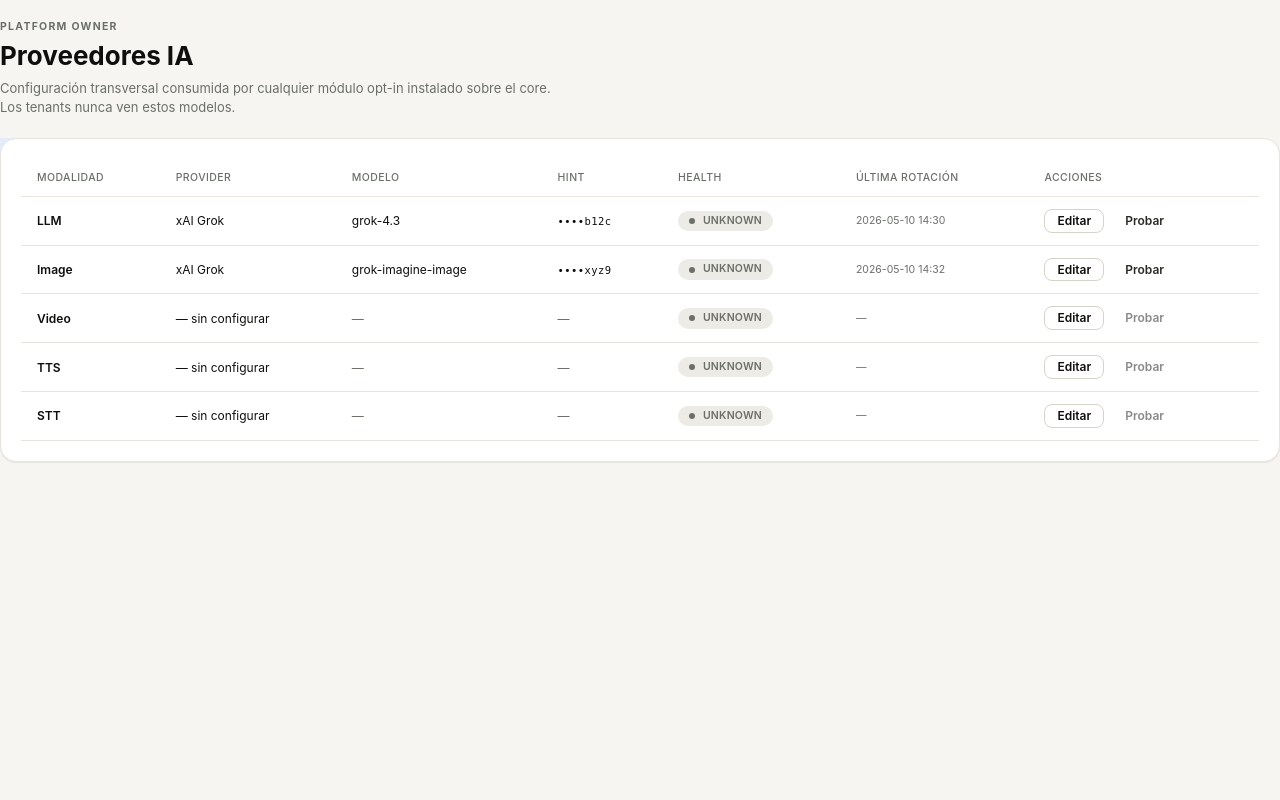
<AIProviders/> — proveedores IA transversales (platform_owner only) › Editar abre drawer prefill con provider+model actuales y NO con api_key
This screenshot has width=1280, height=800.
What coordinates should you click on to do the following:
click the button "Editar" in the row of "LLM"
I would click on:
 (1074, 221)
Its box is [1044,209,1104,233].
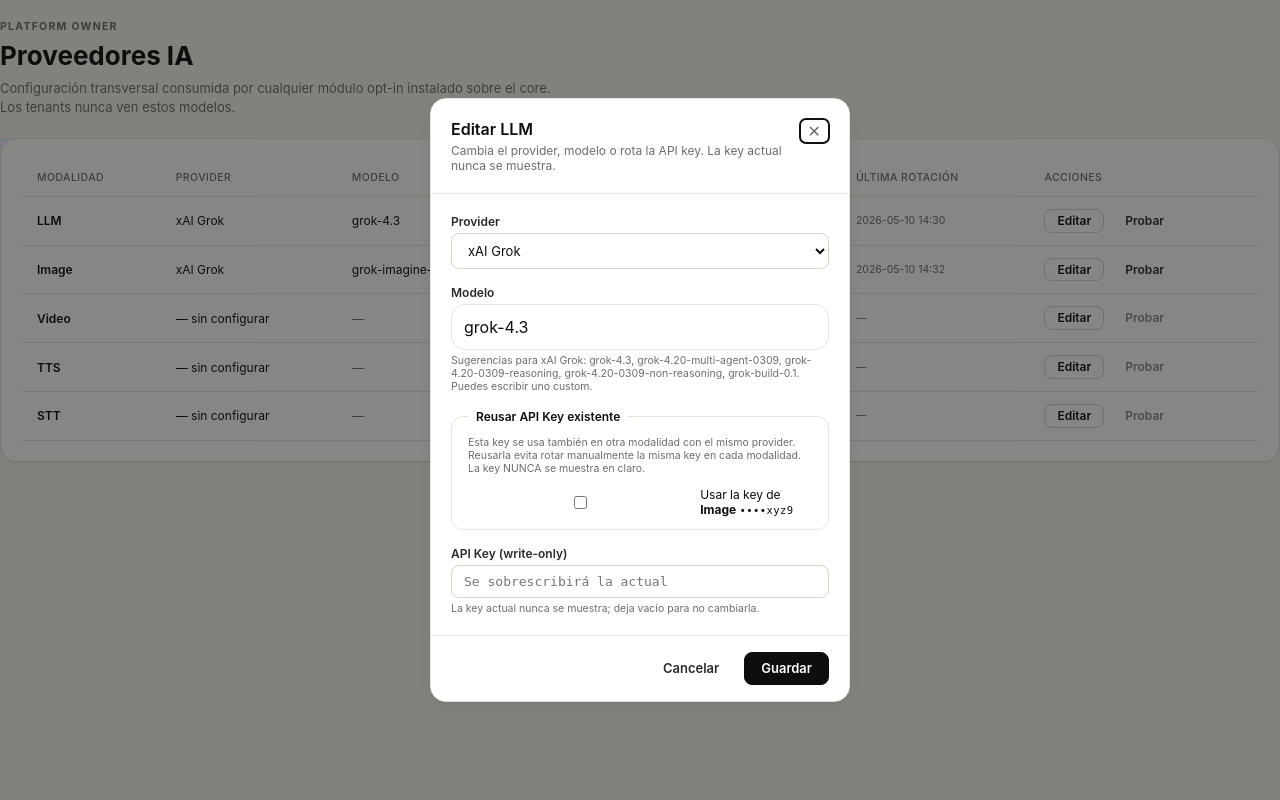
Check: the dropdown labelled "Provider" shows "xAI Grok", box [451,233,829,269]
Check: the field with placeholder "grok-4.3" is shown, box [451,304,829,350]
Check: the field with placeholder "Se sobrescribirá la actual" is empty, box [451,565,829,598]
